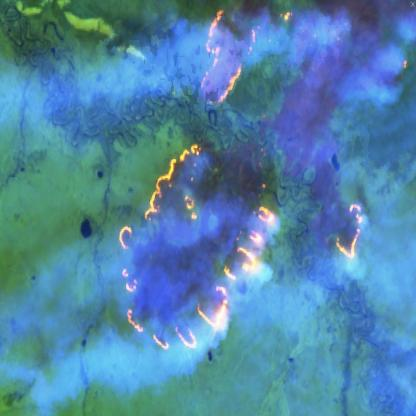fire: (115, 137, 280, 359), (198, 6, 262, 104), (331, 200, 371, 264)
